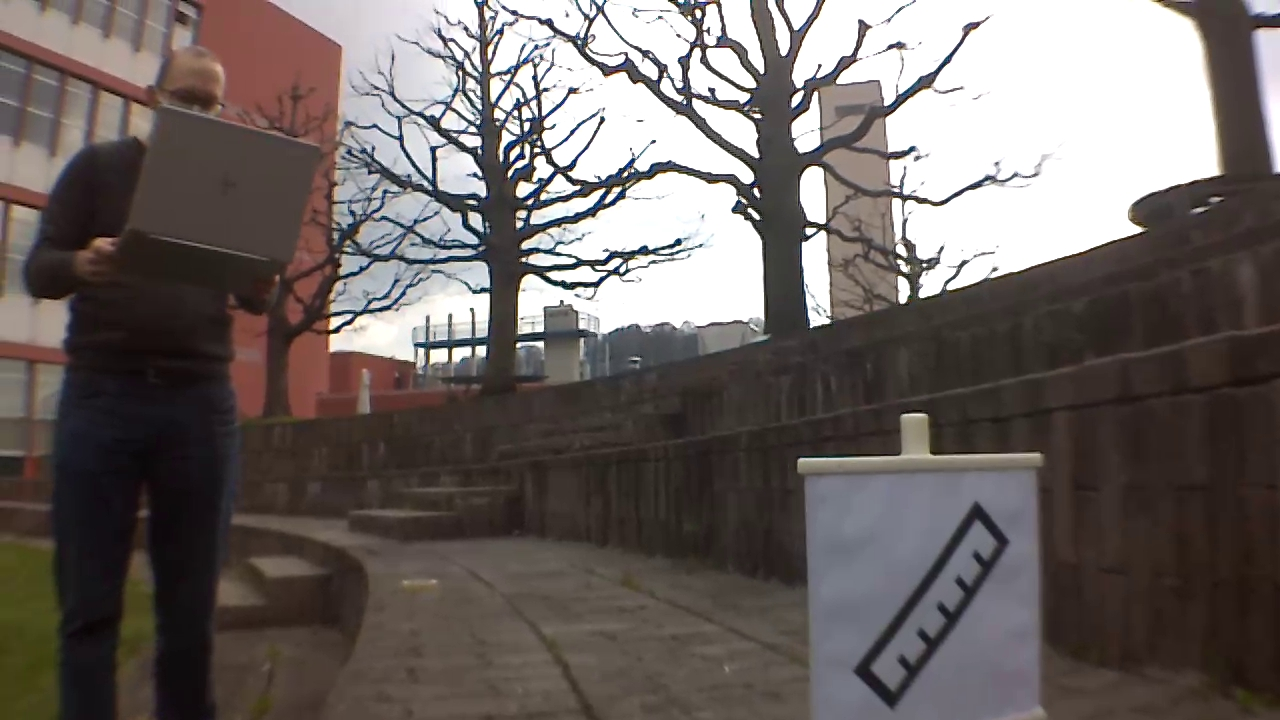ruler: (850, 500, 1014, 712)
